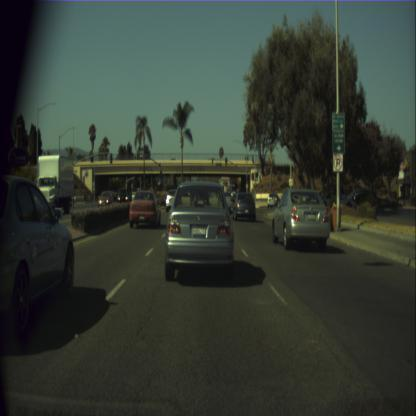Green: (254, 172, 258, 180), (224, 157, 226, 165), (247, 176, 248, 183)
off: (212, 158, 213, 163)
